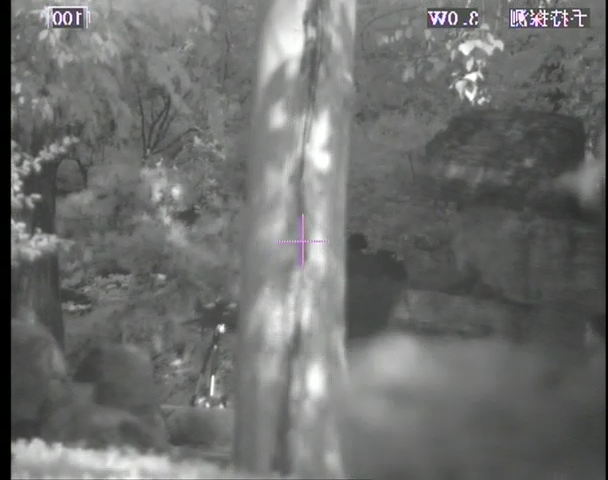my: (215, 323, 225, 334)
